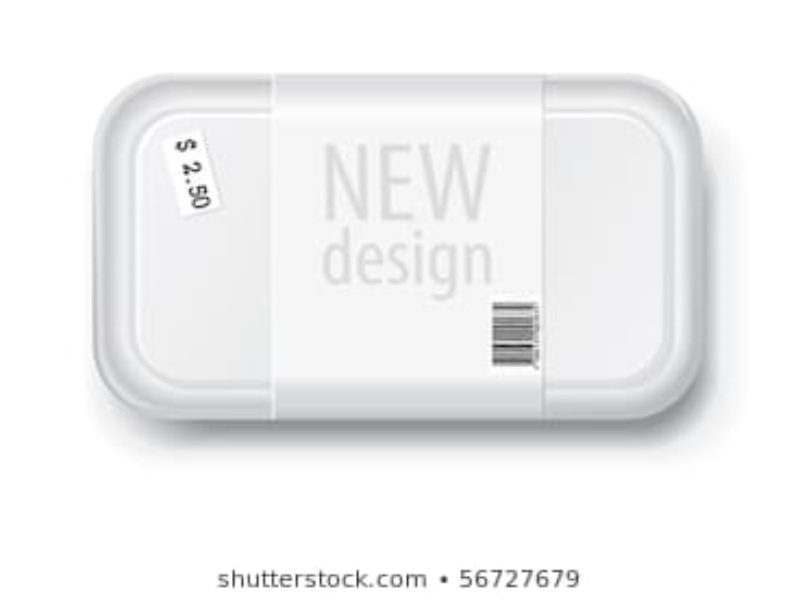plastic-tray: (88, 70, 713, 427)
